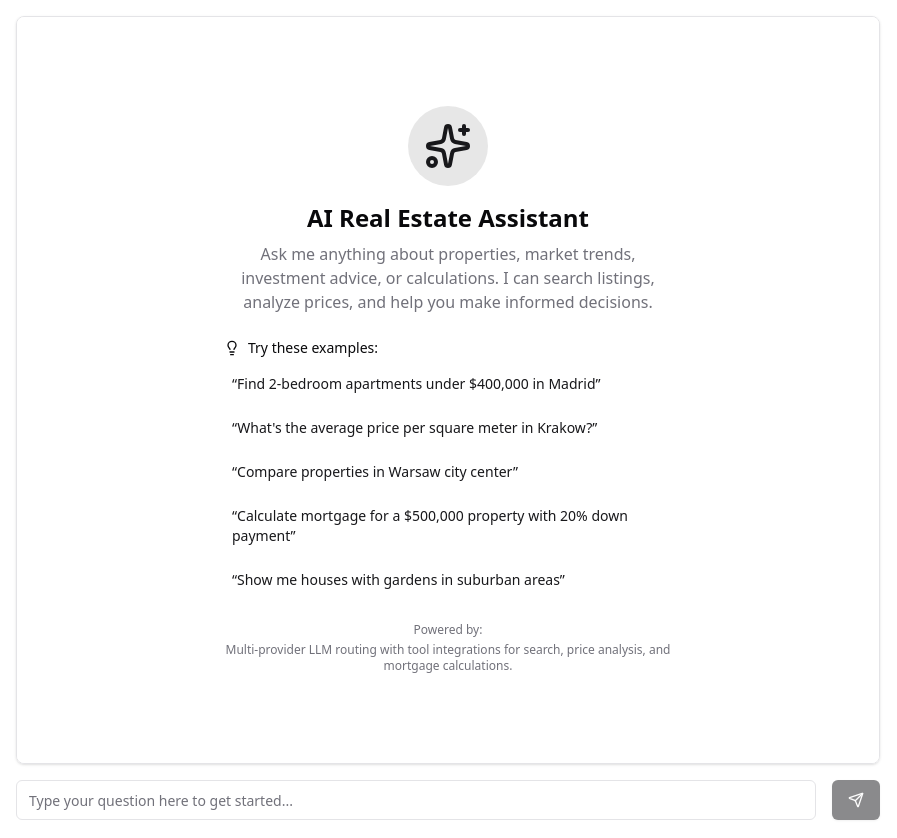
Test: ChatPage › renders sources when provided by stream metadata
Type "Show sources" into the field with placeholder "Type your question here to get started..." at (416, 800), box 16,780 -> 816,820
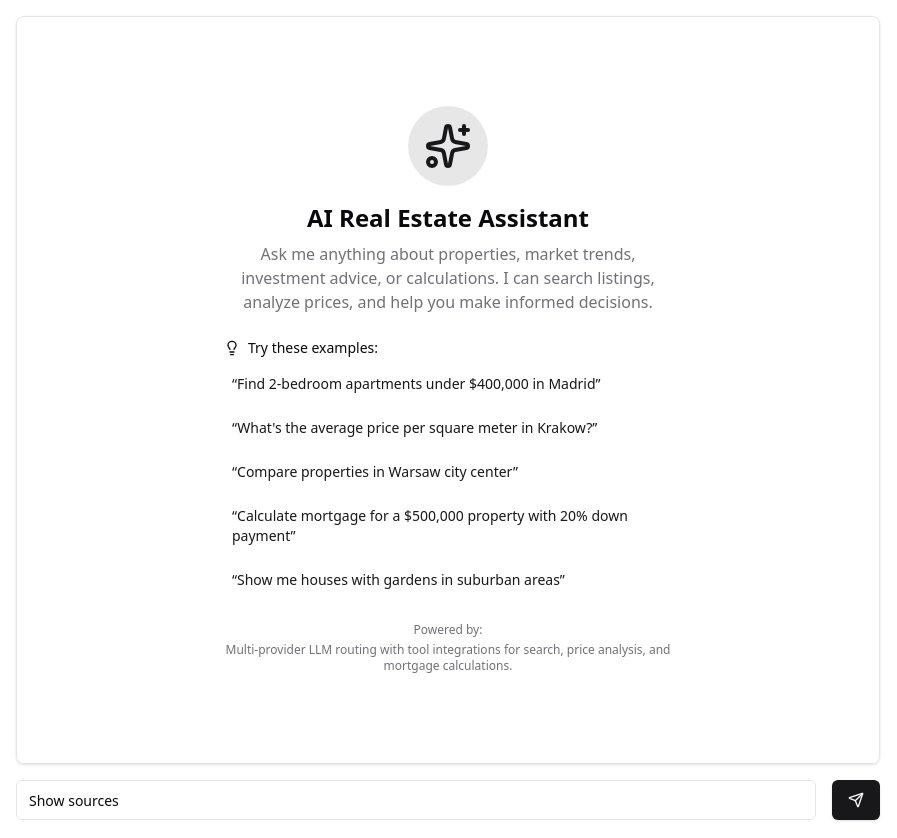
Click the button named "send message" at (856, 800), box 832,780 -> 880,820
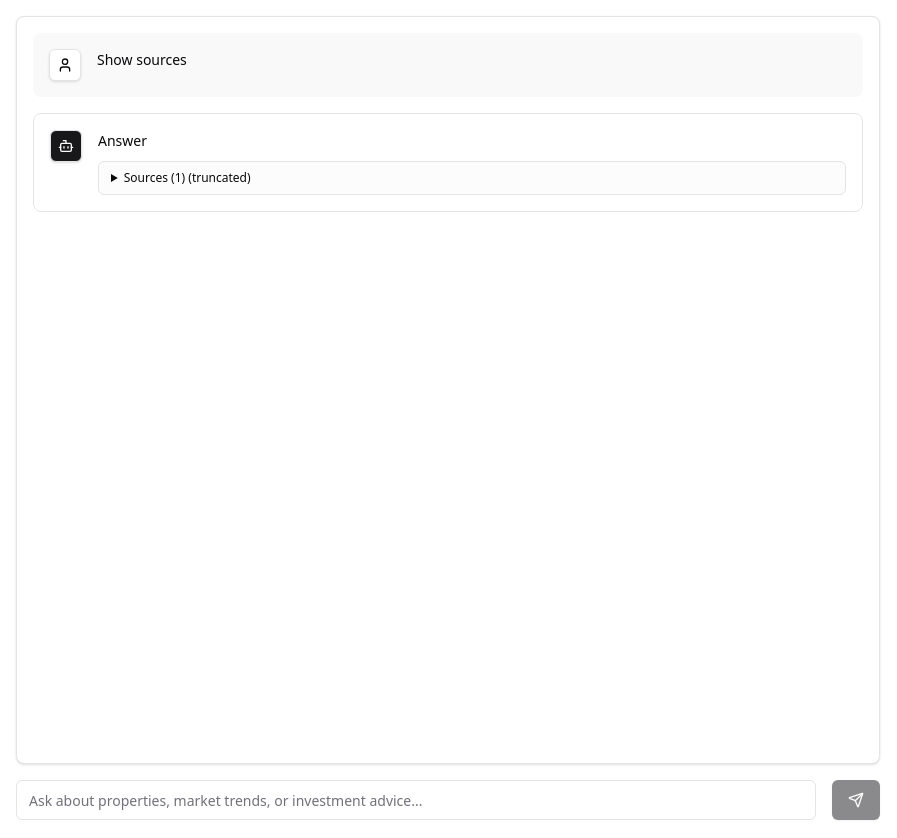
Result: the text "Answer" is shown at 98,131 -> 147,150
Result: the heading "Sources (1) (truncated)" is shown at 124,169 -> 251,186
